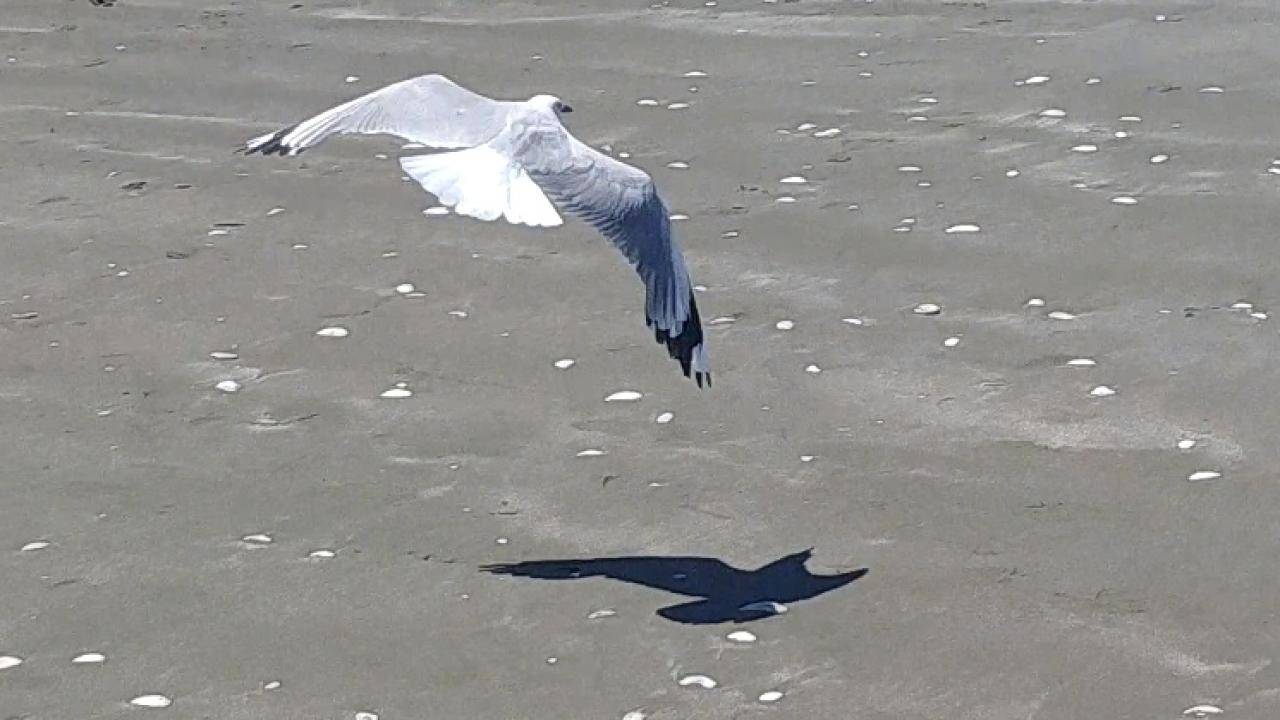Bird: (224, 67, 719, 396)
